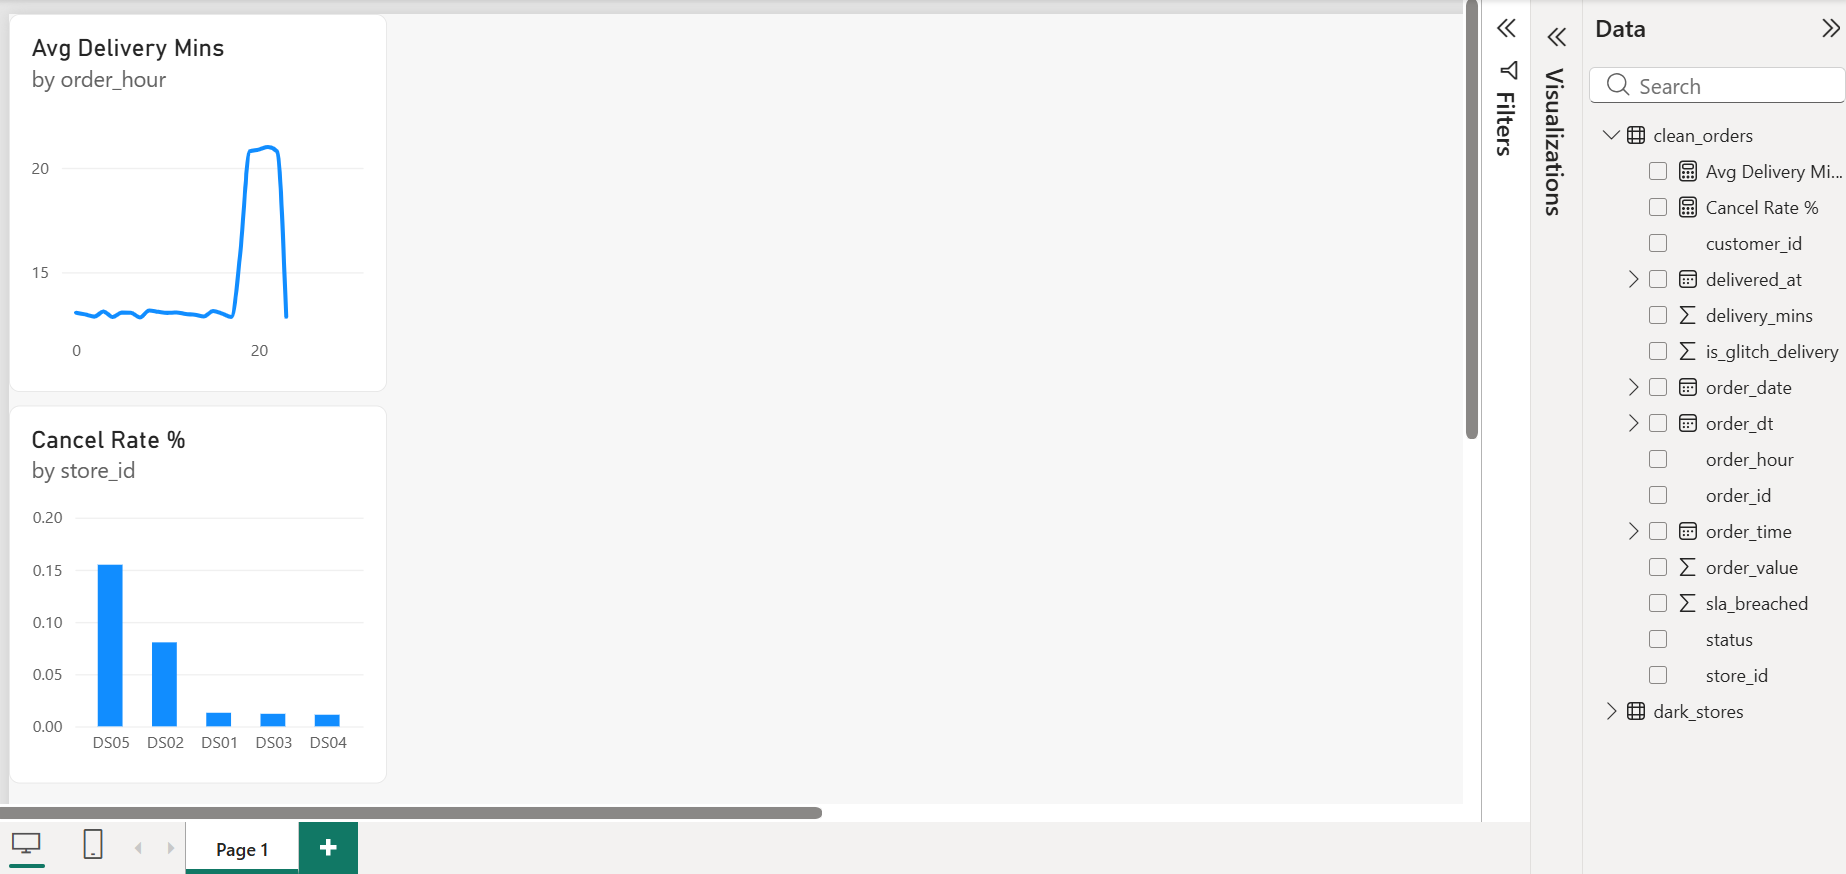

What the dashboard file says about the page in this screenshot:
{"tool":"powerbi","page":{"name":"Page 1","canvas":[1920,1080],"ordinal":0},"visuals":[{"type":"lineChart","fields":{"Category":["clean_orders.order_hour"],"Y":["clean_orders.Avg Delivery Mins"]},"box":[0,0,280,280],"z":1},{"type":"clusteredColumnChart","fields":{"Category":["clean_orders.store_id"],"Y":["clean_orders.Cancel Rate %"]},"box":[0,290,280,280],"z":2}]}

Visuals, with their boxes on the page's 1920x1080 design canvas (x1, y1, x2, y2). These are canvas units, not pixel positions in the 1846x874 screenshot, which may show the page scaled, cropped or inside an application window:
lineChart - clean_orders.order_hour x clean_orders.Avg Delivery Mins: [0,0,280,280]
clusteredColumnChart - clean_orders.store_id x clean_orders.Cancel Rate %: [0,290,280,570]
